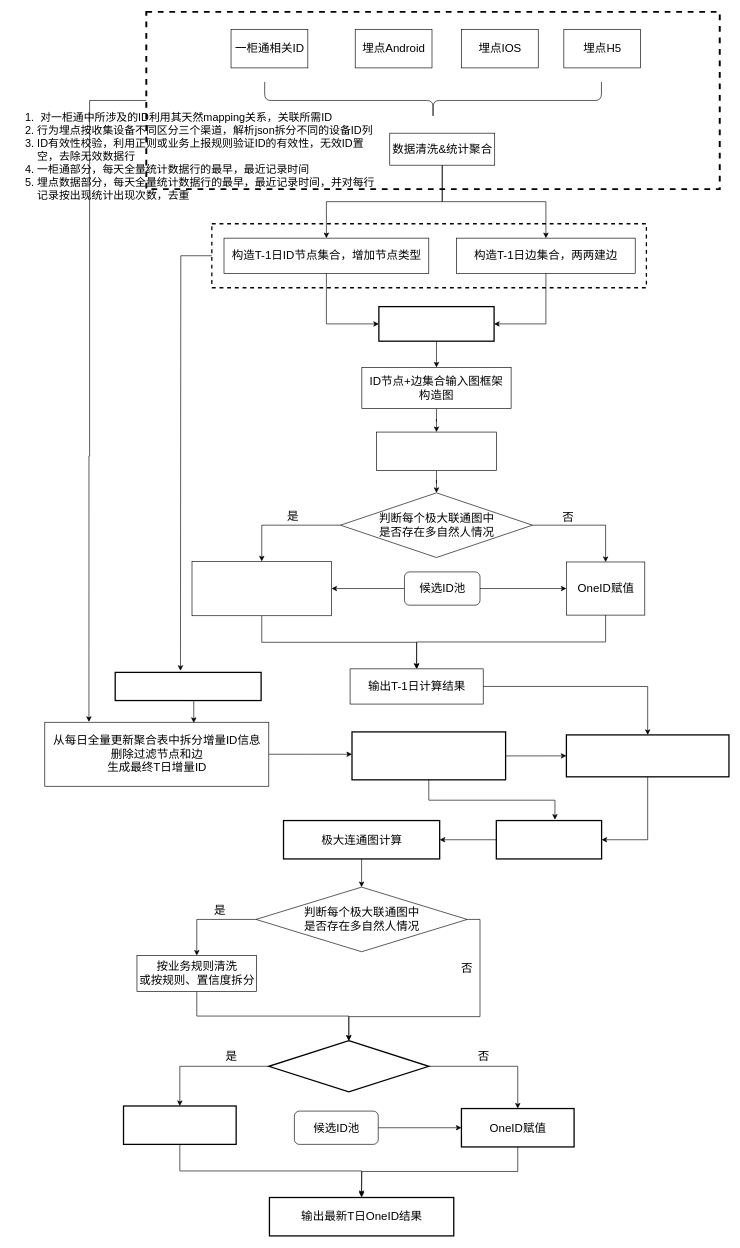
Image size: 740x1248. Some labels were removed from this diagram. The centre of each missing label's shape, as x and y in pixels:
T日ID节点 边（两两建边），构建图: (428,755)
全量输入过滤边和节点: (187,686)
判断是否存在 旧OneID: (348,1066)
合并，输入图框架 构造图: (548,839)
拆解T-1日计算结果 构建仅OneID、普通ID的图: (647,755)
按业务规则清洗 或按规则、置信度拆分 OneID赋值: (261,588)
按条件过滤边和节点: (436,324)
极大联通图计算: (436,450)
沿用旧OneID: (179,1125)
